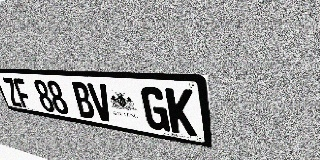8: (45, 80, 70, 115), (32, 79, 56, 113)
B: (70, 82, 96, 120)
F: (12, 78, 34, 109)
G: (140, 86, 170, 132)
K: (165, 88, 197, 136)
V: (87, 83, 115, 123)
Z: (1, 77, 23, 108)
